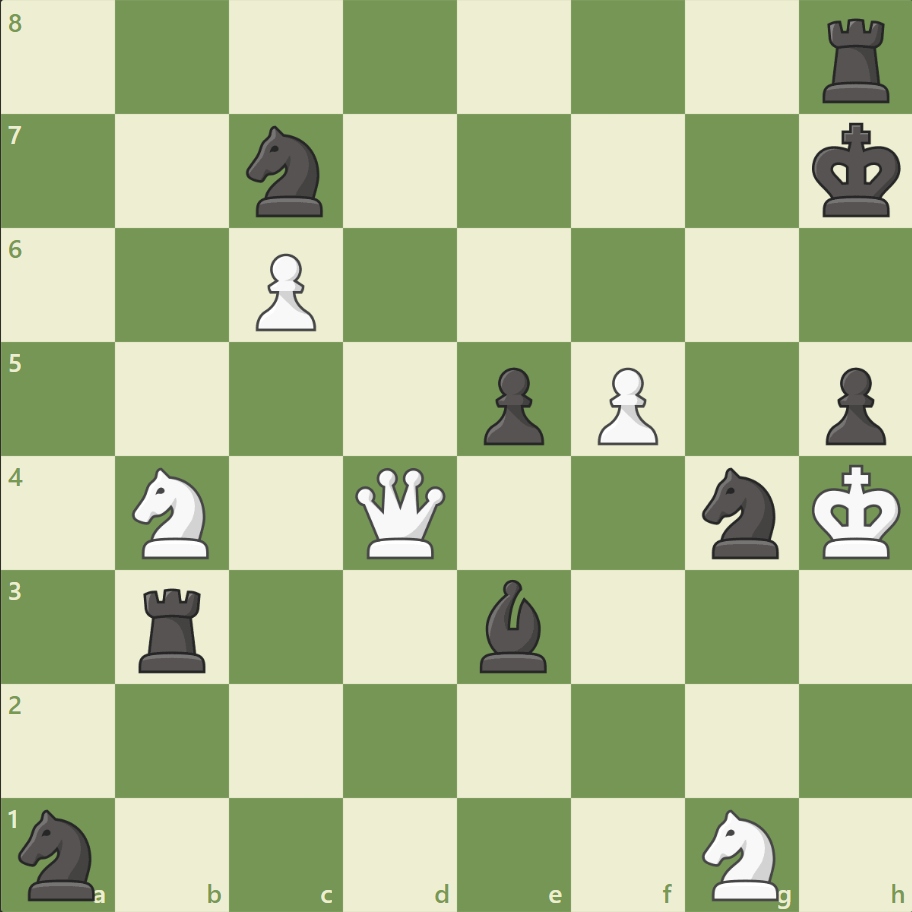K: (806, 458, 906, 566)
N: (124, 461, 222, 564), (692, 802, 789, 904)
P: (247, 246, 322, 337), (588, 359, 662, 450)
Q: (351, 463, 450, 562)
b: (471, 574, 555, 676)
k: (806, 117, 906, 225)
n: (692, 461, 789, 564), (238, 121, 335, 223), (11, 802, 108, 904)
p: (474, 359, 549, 450), (815, 359, 889, 450)
r: (814, 12, 897, 109), (133, 579, 215, 676)
